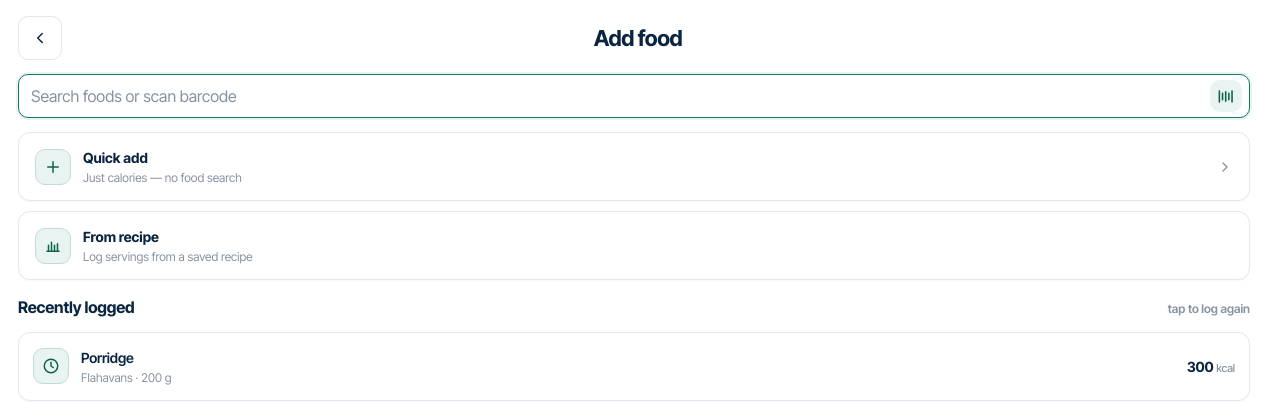
Test: AddFood — recents › hides the recents once a search is under way
This screenshot has width=1269, height=418.
Expected: the heading "Recently logged" is shown, [18, 296, 134, 320]
Type "hummus" into the field with placeholder "Search foods or scan barcode" at [634, 96], box [18, 74, 1250, 118]
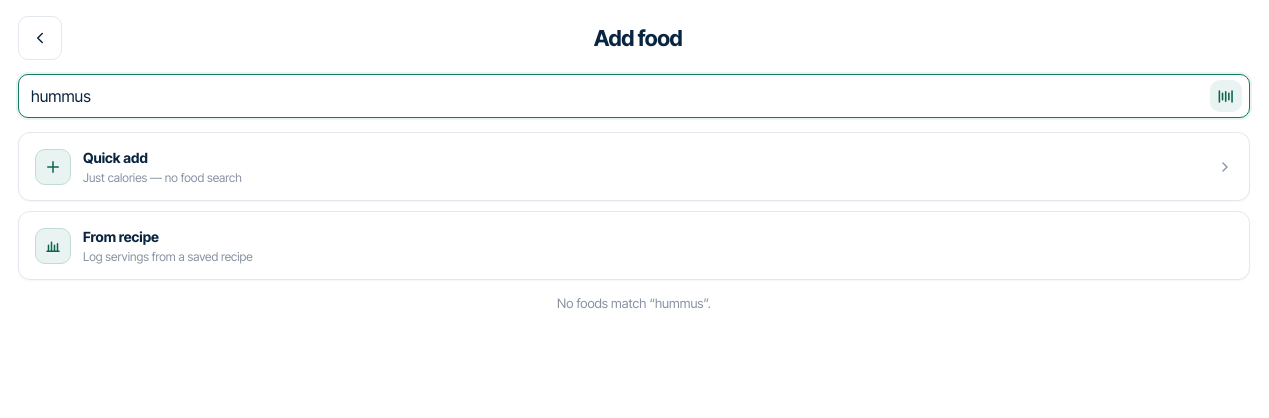
Now the heading "Recently logged" is gone
